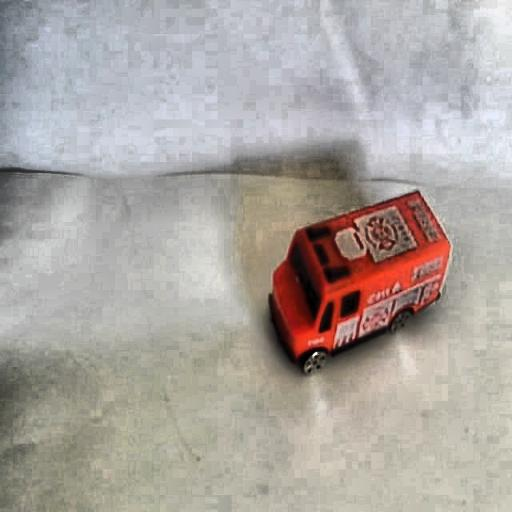fire_truck: (264, 190, 454, 375)
